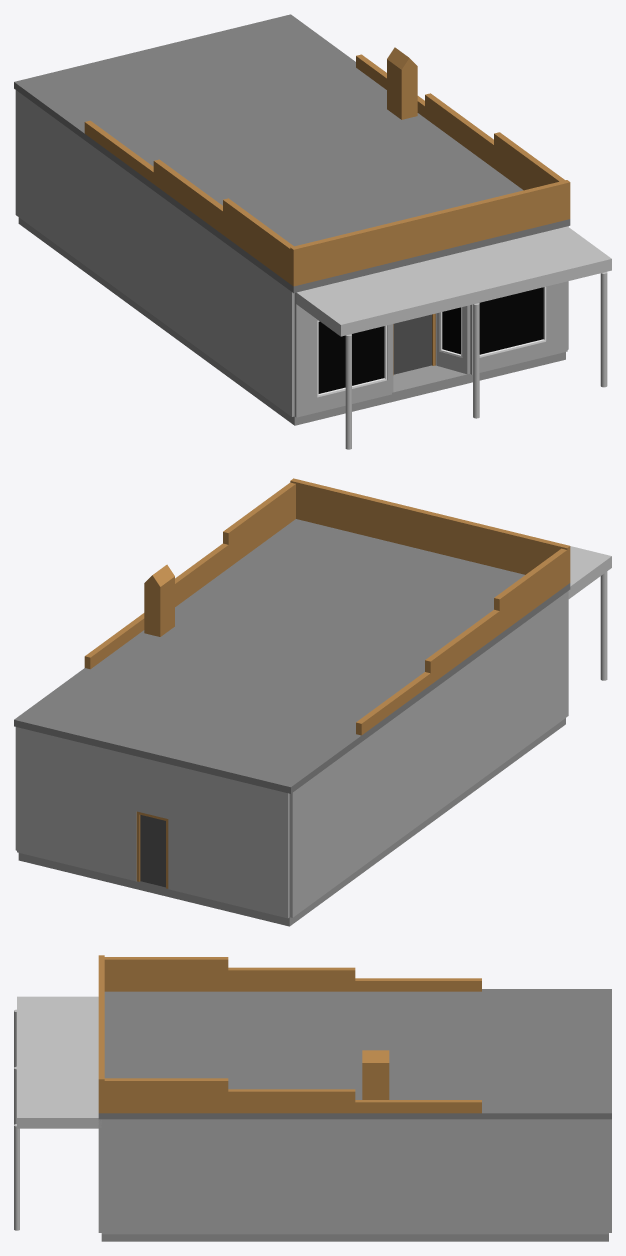
File: building_phase_1b_iter_013.glb
The picture shows the model from 3 angles, top to bottom: view 1: azimuth 30°, elevation 25°; view 2: azimuth 150°, elevation 25°; view 3: azimuth 270°, elevation 25°; orthographic projection. The views are drawn at different scales.
Parts seen in each view (by area): view 1: Roof, Wall_Left, Canopy_Roof, Parapet_Front, Wall_Front, Foundation, Front_Left_Window_Glass, Front_Right_Window_Glass, Parapet_Left_Level_1, Parapet_Right_Level_1, Parapet_Left_Level_2, Parapet_Right_Level_2 (+10 smaller); view 2: Roof, Wall_Left, Wall_Rear, Parapet_Front, Foundation, Parapet_Left_Level_1, Parapet_Right_Level_1, Parapet_Left_Level_2, Rear_Service_Door_Panel, Parapet_Right_Level_2, Chimney, Canopy_Roof (+3 smaller); view 3: Wall_Right, Roof, Canopy_Roof, Parapet_Right_Level_1, Parapet_Left_Level_1, Foundation, Parapet_Left_Level_2, Parapet_Right_Level_2, Parapet_Left_Level_3, Parapet_Right_Level_3, Parapet_Front, Chimney (+2 smaller).
Part boxes in pixels (<box>): Roof: <box>14,14,570,293</box>; Wall_Left: <box>15,90,294,416</box>; Canopy_Roof: <box>296,226,611,336</box>; Parapet_Front: <box>290,180,570,286</box>; Wall_Front: <box>294,281,567,417</box>; Foundation: <box>18,217,565,425</box>; Front_Left_Window_Glass: <box>318,321,384,393</box>; Front_Right_Window_Glass: <box>479,287,543,354</box>; Parapet_Left_Level_1: <box>223,198,293,283</box>; Parapet_Right_Level_1: <box>494,132,564,190</box>; Parapet_Left_Level_2: <box>153,159,222,234</box>; Parapet_Right_Level_2: <box>425,93,493,168</box>; Roof: <box>14,519,570,793</box>; Wall_Left: <box>289,591,568,917</box>; Wall_Rear: <box>17,727,289,918</box>; Parapet_Front: <box>290,478,570,584</box>; Foundation: <box>18,718,565,926</box>; Parapet_Left_Level_1: <box>494,548,567,633</box>; Parapet_Right_Level_1: <box>223,482,295,567</box>; Parapet_Left_Level_2: <box>425,609,499,684</box>; Rear_Service_Door_Panel: <box>140,815,165,887</box>; Parapet_Right_Level_2: <box>175,543,228,606</box>; Chimney: <box>144,576,174,636</box>; Canopy_Roof: <box>568,546,611,598</box>; Wall_Right: <box>101,1119,608,1234</box>; Roof: <box>98,989,611,1119</box>; Canopy_Roof: <box>17,996,101,1128</box>; Parapet_Right_Level_1: <box>101,1078,228,1113</box>; Parapet_Left_Level_1: <box>104,957,228,991</box>; Foundation: <box>101,1234,608,1241</box>; Parapet_Left_Level_2: <box>228,967,355,991</box>; Parapet_Right_Level_2: <box>228,1089,355,1113</box>; Parapet_Left_Level_3: <box>355,978,481,991</box>; Parapet_Right_Level_3: <box>355,1100,481,1113</box>; Parapet_Front: <box>98,955,104,1113</box>; Chimney: <box>362,1063,389,1099</box>.
Size of the model in its own units: 8.68 by 6.03 by 17.68.
